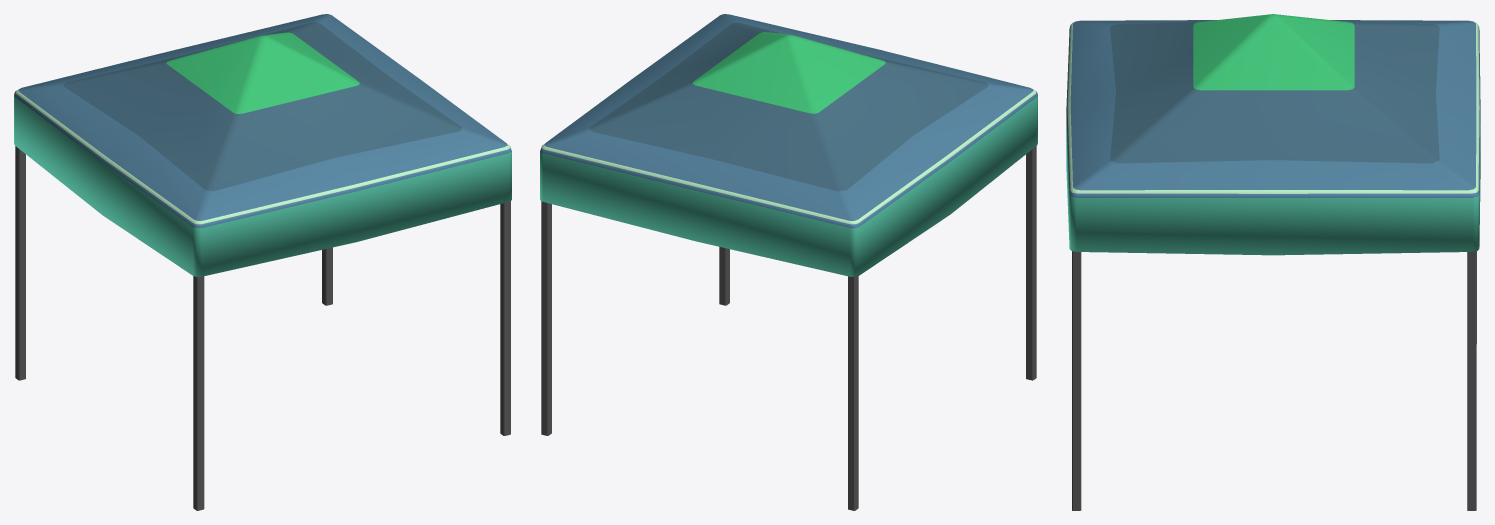
File: Canopy_01.glb
The picture shows the model from 3 angles, left to right: view 1: azimuth 30°, elevation 25°; view 2: azimuth 150°, elevation 25°; view 3: azimuth 270°, elevation 25°; orthographic projection. The views are drawn at different scales.
Parts seen in each view (by area): view 1: Canopy_01; view 2: Canopy_01; view 3: Canopy_01.
Boxes of the visible parts, x1,y1,x2,y2 form: Canopy_01: (14,14,511,510); Canopy_01: (540,14,1037,510); Canopy_01: (1066,14,1480,510).
Size of what is drawn, in the model's own units: 4.24 by 4.67 by 4.27.
Materials: 1 (1 with a texture image).
